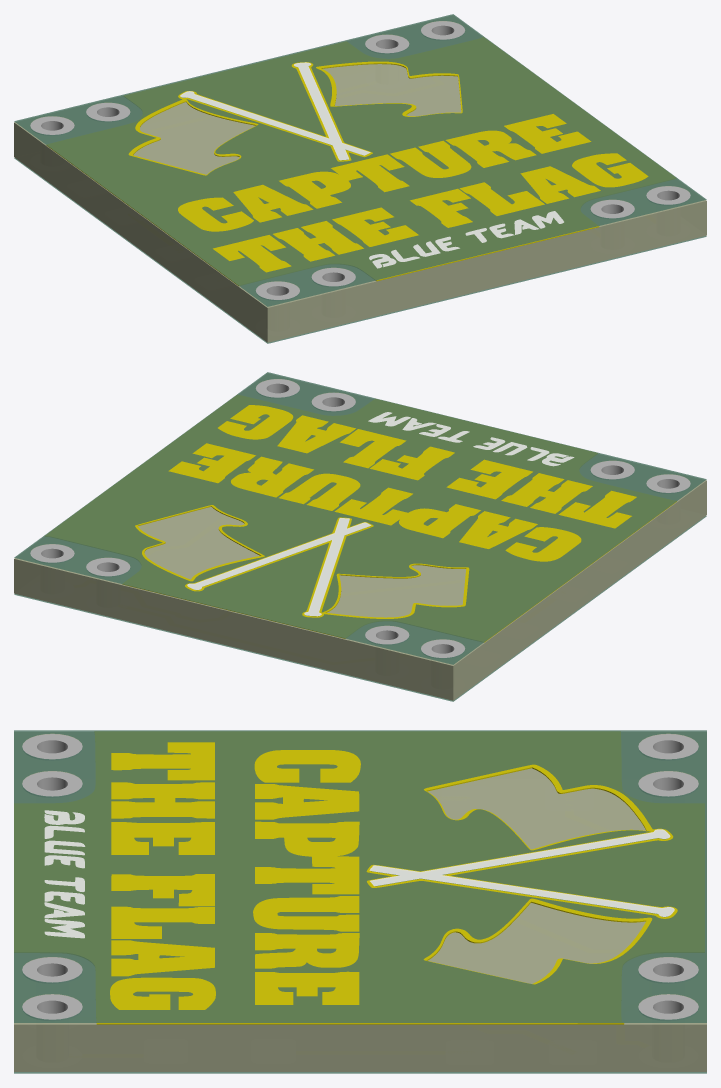
File: blue-team-ctf-minibadge.glb
The picture shows the model from 3 angles, top to bottom: view 1: azimuth 30°, elevation 25°; view 2: azimuth 150°, elevation 25°; view 3: azimuth 270°, elevation 25°; orthographic projection. The views are drawn at different scales.
Parts seen in each view (by area): view 1: =>[0:1:1:2], =>[0:1:1:6], =>[0:1:1:8], =>[0:1:1:4]; view 2: =>[0:1:1:2], =>[0:1:1:6], =>[0:1:1:8], =>[0:1:1:4]; view 3: =>[0:1:1:2], =>[0:1:1:6], =>[0:1:1:8], =>[0:1:1:4].
Part boxes in pixels (x1,y1,x2,y2): =>[0:1:1:2]: (30, 21, 690, 300); =>[0:1:1:6]: (14, 14, 706, 343); =>[0:1:1:8]: (14, 16, 706, 342); =>[0:1:1:4]: (180, 62, 563, 268); =>[0:1:1:2]: (30, 379, 690, 658); =>[0:1:1:6]: (14, 372, 706, 701); =>[0:1:1:8]: (14, 374, 706, 700); =>[0:1:1:4]: (187, 412, 574, 616); =>[0:1:1:2]: (14, 732, 704, 1024); =>[0:1:1:6]: (14, 730, 706, 1073); =>[0:1:1:8]: (14, 732, 706, 1071); =>[0:1:1:4]: (44, 810, 674, 938).
Size of the model in its own units: 0.02 by 0.00166 by 0.02.
4 materials, 4 textured.
